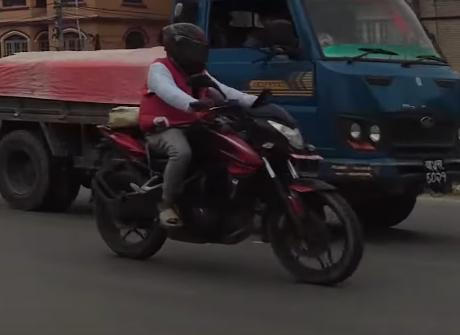bike: (72, 74, 368, 288)
